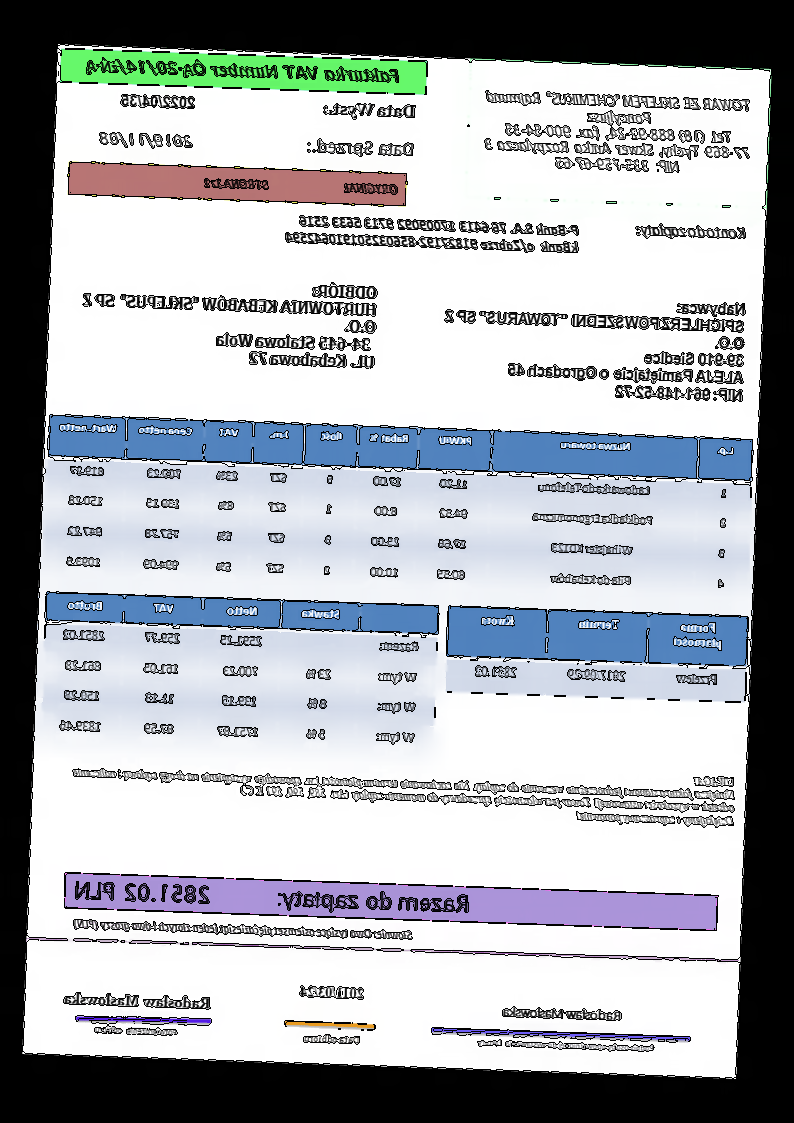Table: (43, 411, 755, 603), (40, 588, 442, 757), (446, 605, 749, 703)
TextBox: (67, 749, 736, 830), (438, 288, 749, 406), (76, 272, 382, 372), (479, 83, 757, 180), (72, 877, 472, 919), (280, 210, 584, 258), (82, 54, 405, 89), (70, 913, 416, 945), (199, 173, 403, 200), (474, 1033, 657, 1055), (63, 989, 214, 1014), (633, 217, 751, 245), (303, 135, 418, 162), (499, 1002, 626, 1023), (95, 127, 197, 152), (319, 98, 419, 123), (119, 89, 199, 112), (91, 1022, 179, 1040), (296, 982, 370, 1003), (301, 1030, 363, 1048)
